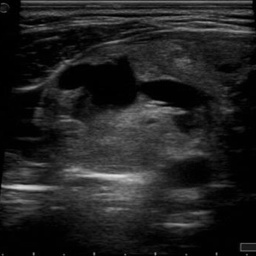mass: (43, 59, 204, 168)
